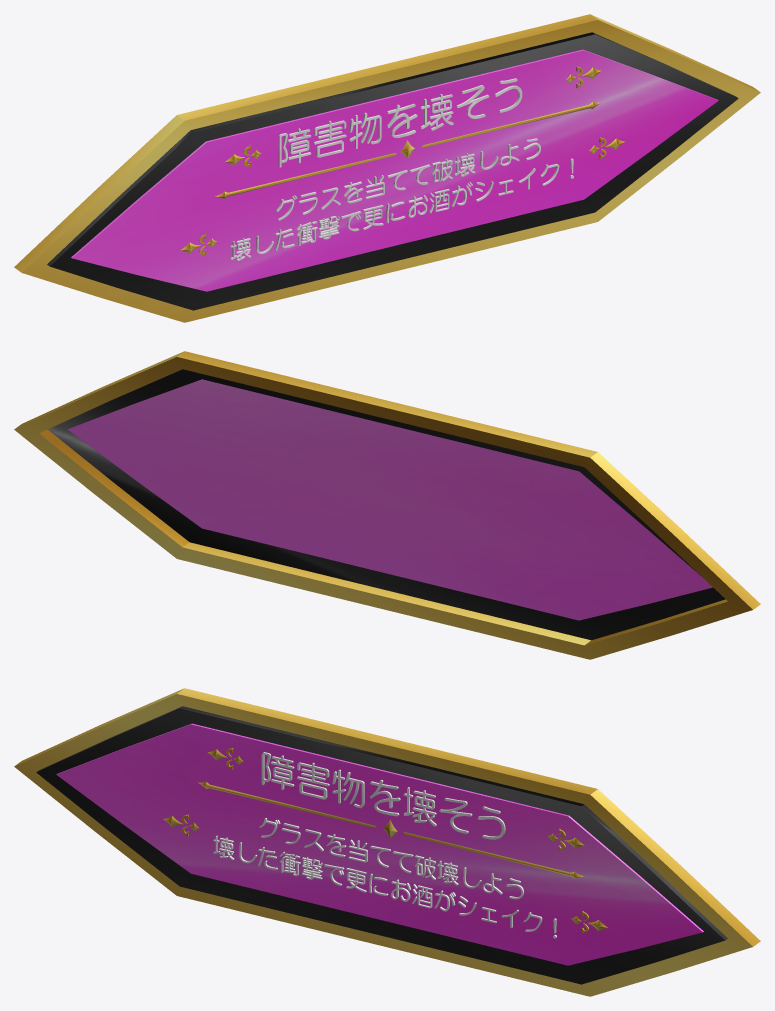
The model's file is tutorial2.obj.
3 renders of one model, top to bottom at view 1: azimuth 30°, elevation 25°; view 2: azimuth 150°, elevation 25°; view 3: azimuth 330°, elevation 25°, orthographic.
Visible parts, largest first — view 1: 立方体.004, 立方体.017, 立方体.016, テキスト.001, 立方体.008, 立方体.007; view 2: 立方体.004, 立方体.017, 立方体.016; view 3: 立方体.004, 立方体.017, 立方体.016, テキスト.001, 立方体.007, 立方体.008.
Boxes of the visible parts, bbox=[...] form: 立方体.004: bbox=[71, 49, 718, 291]; 立方体.017: bbox=[14, 14, 760, 322]; 立方体.016: bbox=[47, 32, 738, 310]; テキスト.001: bbox=[230, 78, 573, 260]; 立方体.008: bbox=[215, 153, 396, 198]; 立方体.007: bbox=[422, 102, 601, 147]; 立方体.004: bbox=[67, 379, 712, 620]; 立方体.017: bbox=[14, 351, 760, 659]; 立方体.016: bbox=[48, 369, 725, 640]; 立方体.004: bbox=[56, 723, 703, 965]; 立方体.017: bbox=[14, 688, 760, 996]; 立方体.016: bbox=[36, 706, 727, 984]; テキスト.001: bbox=[213, 752, 556, 938]; 立方体.007: bbox=[403, 832, 583, 878]; 立方体.008: bbox=[198, 782, 375, 828].
Size of the model in its own units: 9.03 by 2.36 by 0.3007.
Materials: 2 (2 with a texture image).
